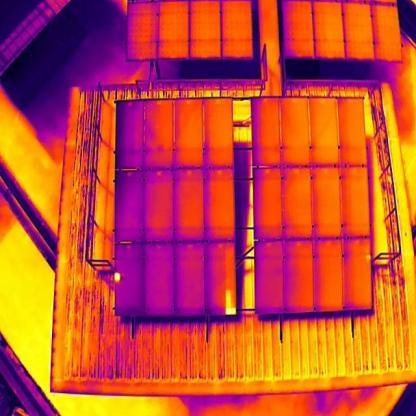anomaly: (224, 288, 239, 315), (110, 269, 124, 284)
